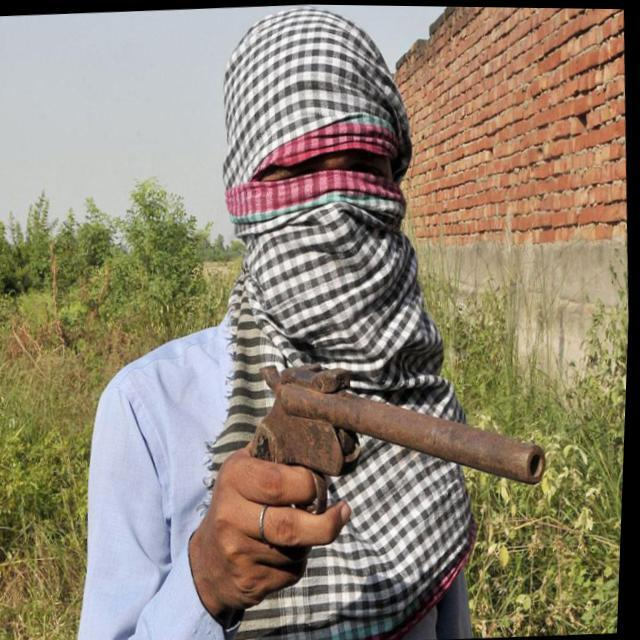weapon: (224, 340, 571, 610)
